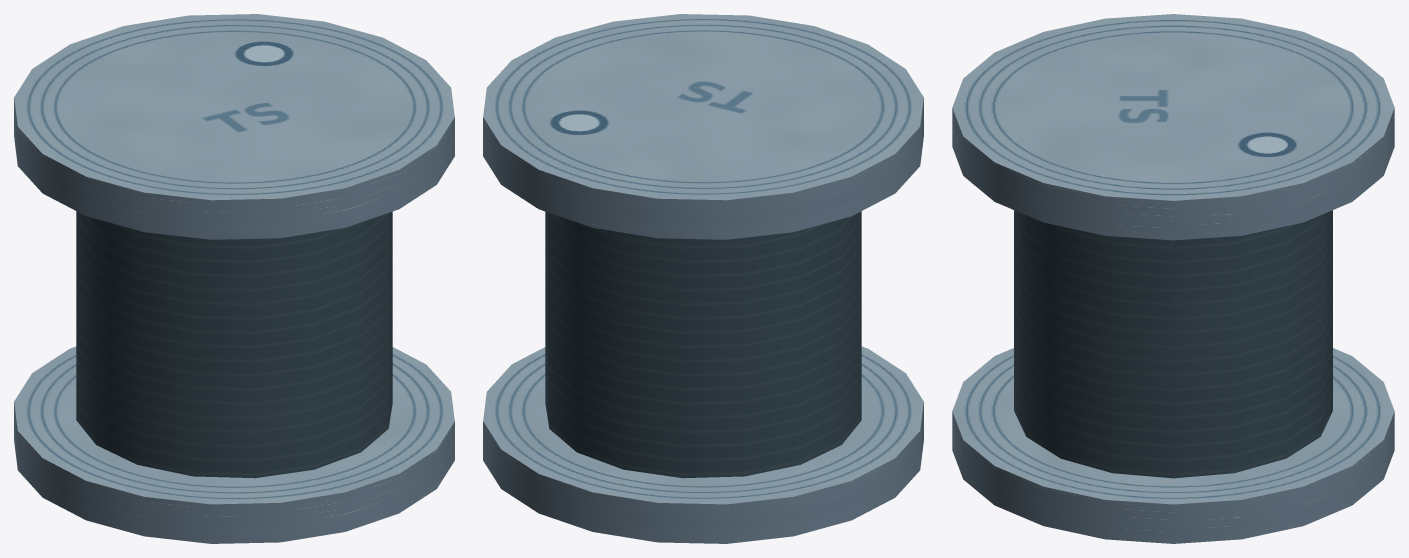
Rendered from SM_CableReel.glb.
3 views of the same model, side by side, from view 1: azimuth 30°, elevation 25°; view 2: azimuth 150°, elevation 25°; view 3: azimuth 270°, elevation 25° (orthographic).
Visible parts, largest first — view 1: SM_CableReel; view 2: SM_CableReel; view 3: SM_CableReel.
Boxes of the visible parts, box(x1,y1,x2,y2) form: SM_CableReel: box(14, 14, 454, 543); SM_CableReel: box(483, 14, 923, 543); SM_CableReel: box(952, 14, 1394, 543).
Size of the model in its own units: 0.68 by 0.582 by 0.68.
Materials: 1 (1 with a texture image).
